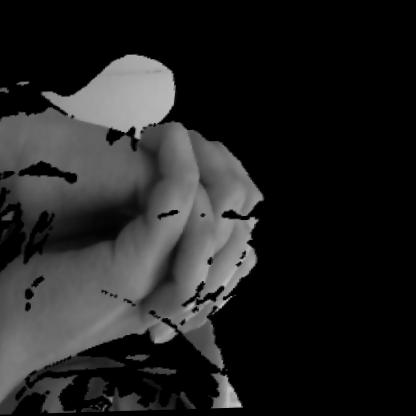prayer: (0, 82, 296, 415)
